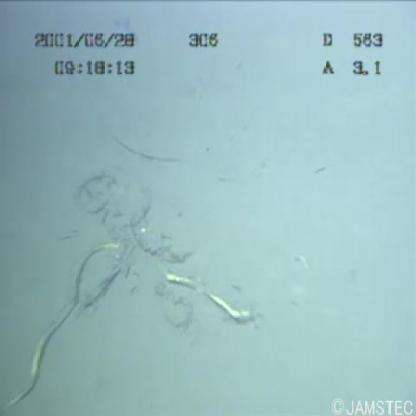Rác: (12, 120, 252, 407)
